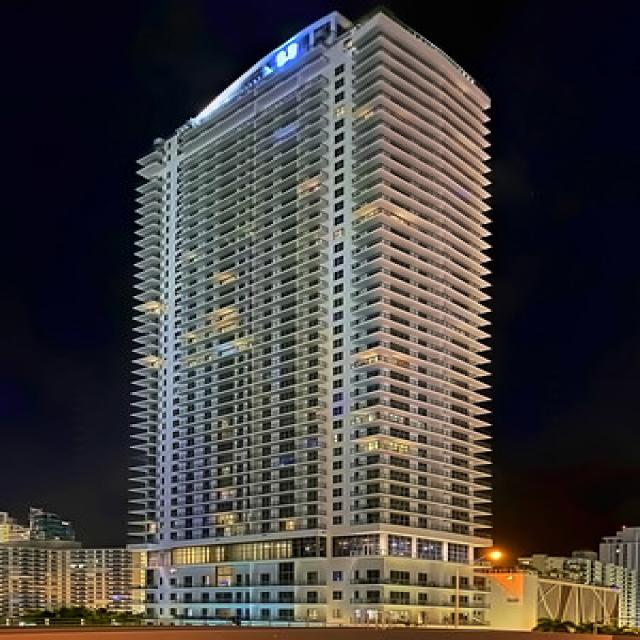Normal_building: (118, 4, 502, 634)
